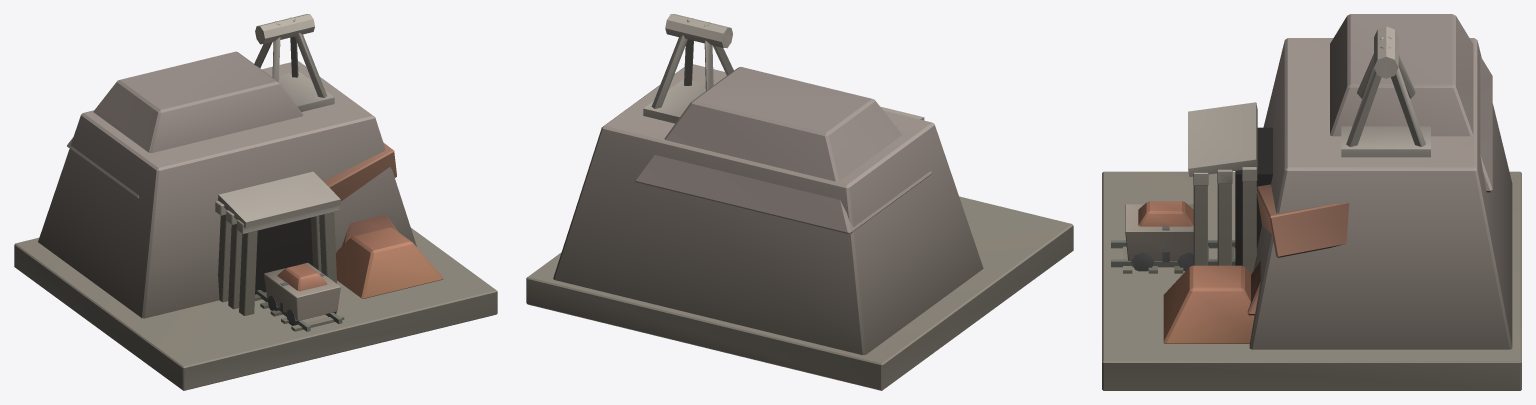
File: iron_mine_l1_lod0.glb
The picture shows the model from 3 angles, left to right: view 1: azimuth 30°, elevation 25°; view 2: azimuth 150°, elevation 25°; view 3: azimuth 270°, elevation 25°; orthographic projection. The views are drawn at different scales.
Parts seen in each view (by area): view 1: iron_mine_l1_lod0; view 2: iron_mine_l1_lod0; view 3: iron_mine_l1_lod0.
Boxes of the visible parts, x1=… form: iron_mine_l1_lod0: x1=14, y1=14, x2=497, y2=390; iron_mine_l1_lod0: x1=526, y1=14, x2=1073, y2=390; iron_mine_l1_lod0: x1=1102, y1=14, x2=1521, y2=390.
Bounding box in the file's own units: 8.8 × 6.26 × 8.2.
